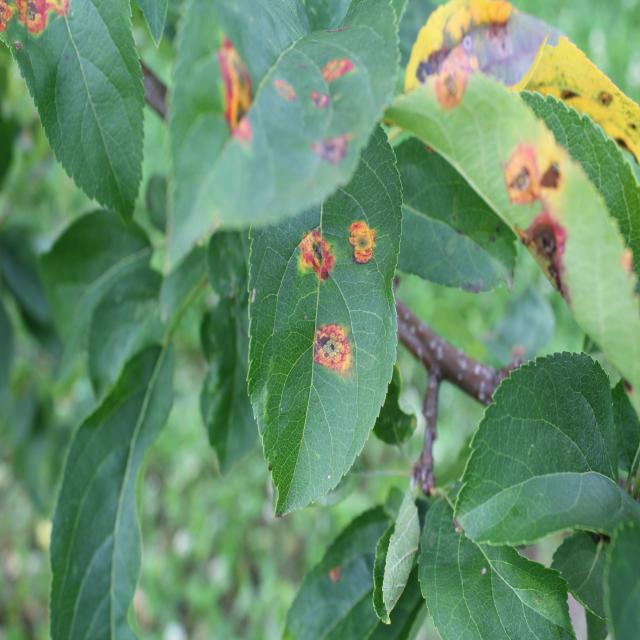Rust: (503, 208, 593, 322), (209, 28, 259, 156), (302, 314, 358, 397), (492, 126, 542, 216), (0, 0, 74, 54), (340, 215, 390, 282), (294, 215, 332, 299), (314, 128, 364, 181), (264, 54, 302, 116), (326, 46, 363, 104)
